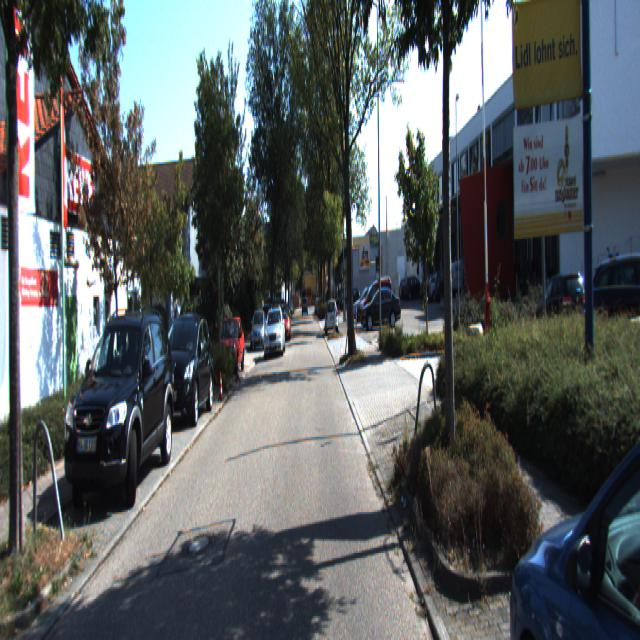Car: (511, 312, 640, 638), (62, 309, 178, 520), (154, 310, 215, 429), (214, 316, 246, 382), (446, 257, 486, 306), (360, 286, 402, 328), (263, 306, 286, 358), (325, 299, 339, 338)
